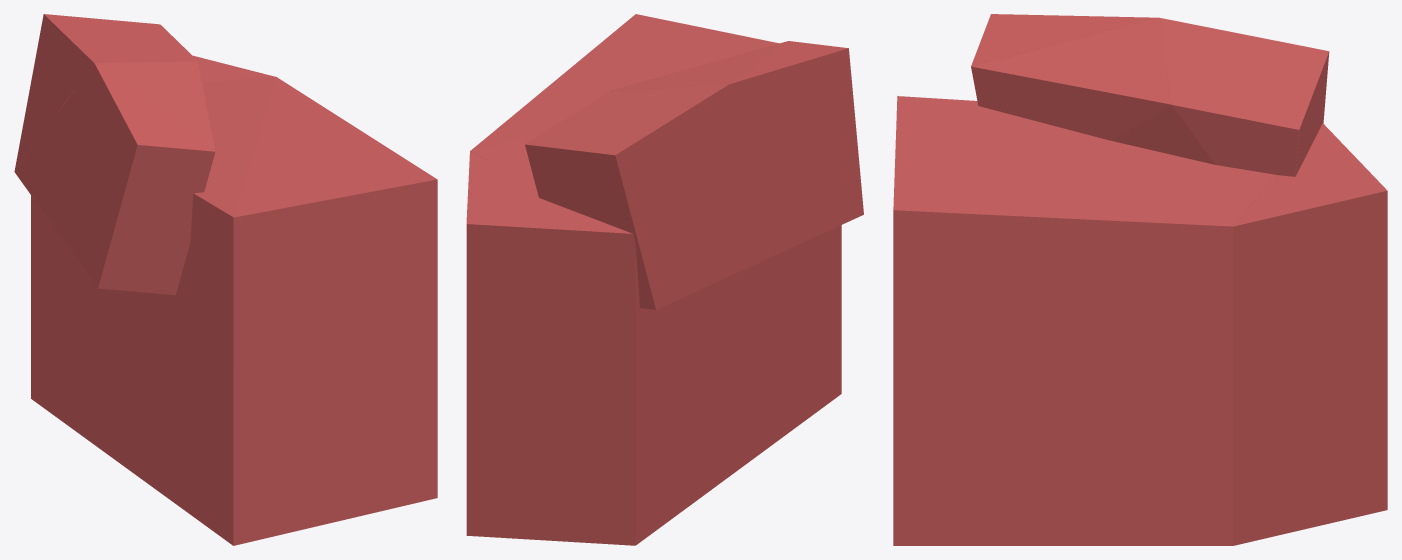
File: iwante_move_l.glb
3 renders of one model, left to right at view 1: azimuth 30°, elevation 25°; view 2: azimuth 150°, elevation 25°; view 3: azimuth 270°, elevation 25°, orthographic. The views are drawn at different scales.
Parts seen in each view (by area): view 1: iwante_move_l_col; view 2: iwante_move_l_col; view 3: iwante_move_l_col.
Boxes of the visible parts, x1=… form: iwante_move_l_col: x1=14, y1=14, x2=437, y2=545; iwante_move_l_col: x1=466, y1=14, x2=863, y2=545; iwante_move_l_col: x1=893, y1=14, x2=1387, y2=545.
Bounding box in the file's own units: 2.7 × 3.63 × 3.9.
